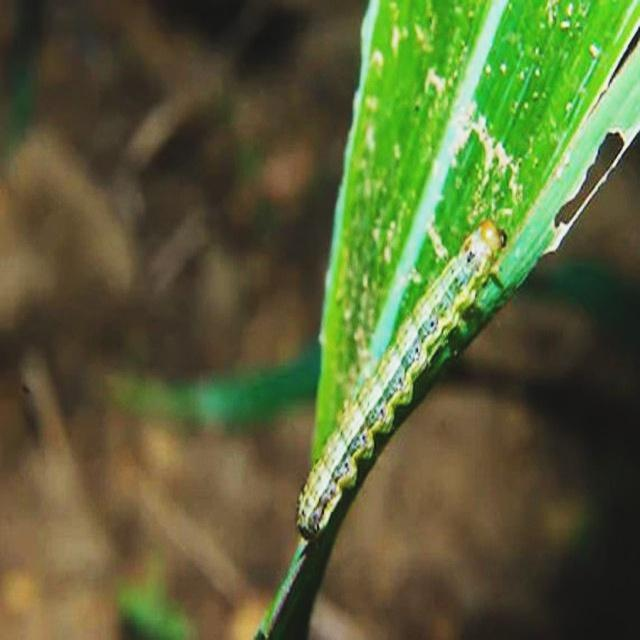gusano_cogollero: (296, 220, 506, 530)
